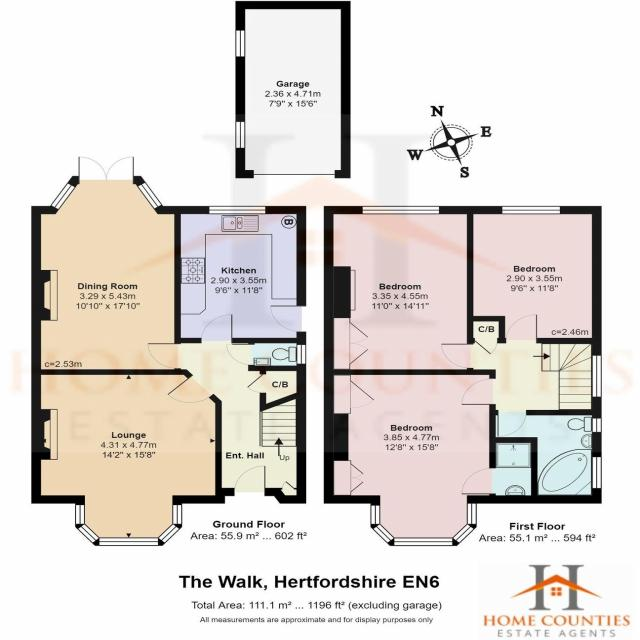DOOR: (162, 373, 216, 405), (233, 464, 267, 496), (270, 304, 306, 333), (504, 313, 538, 343), (200, 314, 234, 344), (461, 378, 496, 406), (461, 468, 497, 495), (146, 342, 182, 369), (440, 342, 474, 369), (496, 409, 527, 438), (224, 343, 255, 366)
DOUBLE DOOR: (75, 152, 140, 184)
ROOM: (31, 369, 225, 546), (31, 156, 181, 375), (323, 369, 497, 547), (323, 206, 474, 375), (466, 206, 602, 343), (174, 205, 306, 343)
WINDOW: (370, 503, 478, 546), (75, 504, 183, 547), (49, 182, 77, 212), (136, 181, 164, 211), (361, 205, 441, 215), (208, 205, 266, 215), (501, 206, 561, 215), (591, 354, 602, 398), (591, 456, 602, 490), (296, 344, 307, 365), (591, 417, 602, 433)
